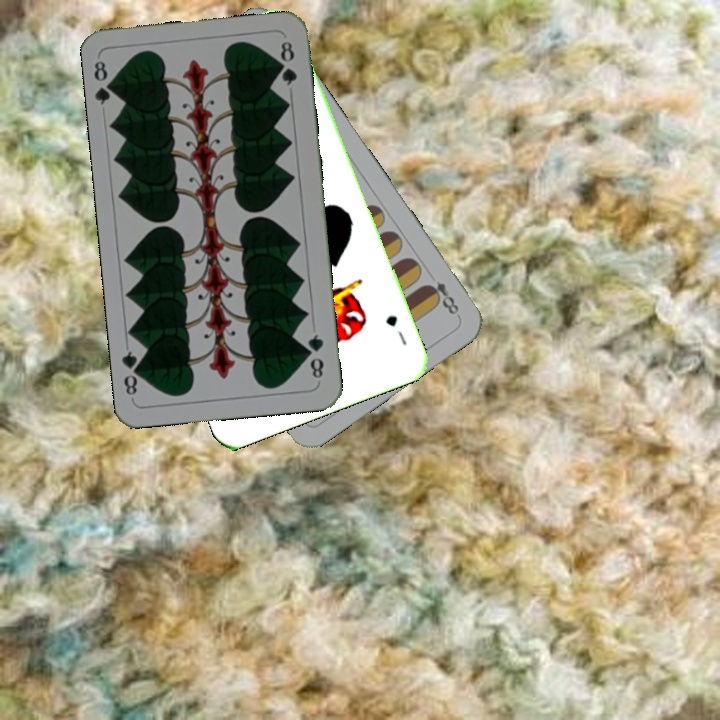E8: (421, 276, 462, 319)
G8: (90, 57, 119, 107), (303, 330, 327, 381)
GU: (382, 311, 410, 348)
